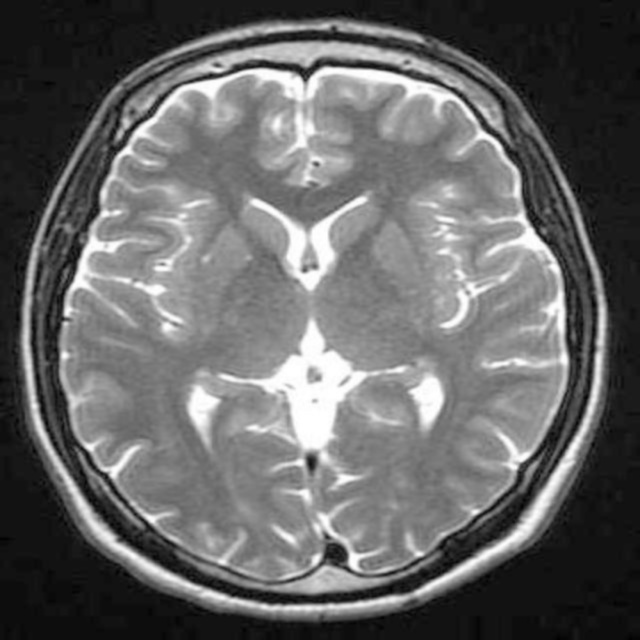glioma tumor: (125, 86, 490, 524)
